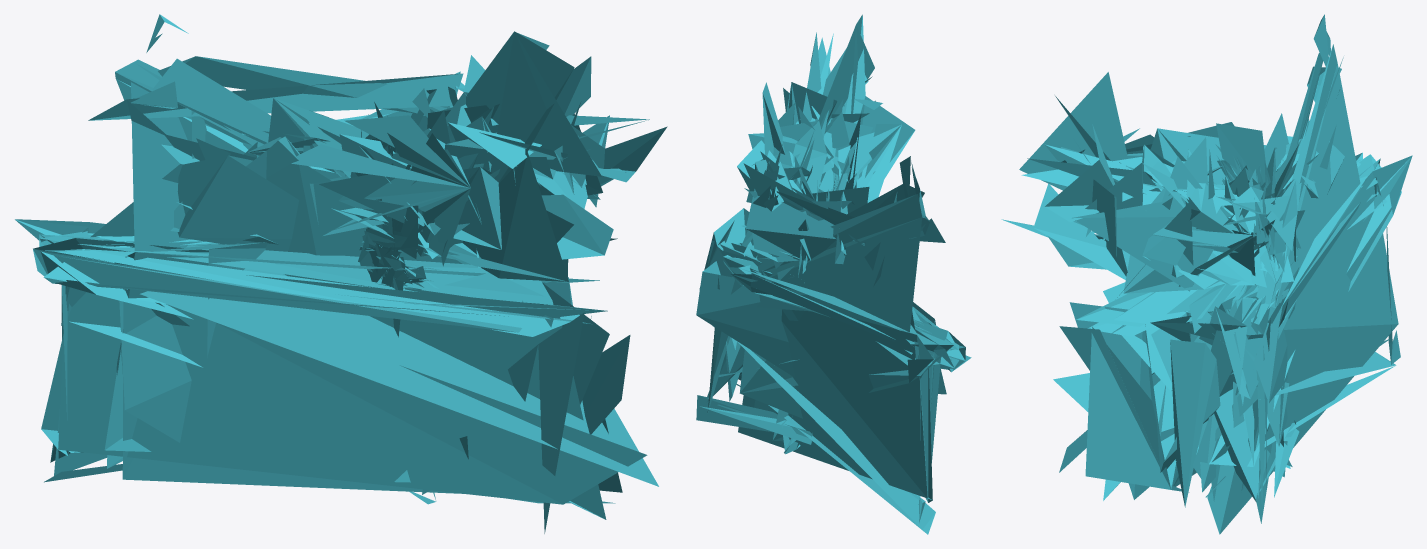
3 renders of one model, left to right at view 1: azimuth 30°, elevation 25°; view 2: azimuth 150°, elevation 25°; view 3: azimuth 270°, elevation 25°, orthographic. The views are drawn at different scales.
Parts seen in each view (by area): view 1: Renderer Node; view 2: Renderer Node; view 3: Renderer Node.
Part boxes in pixels (left/top/right/bottom): Renderer Node: left=15, top=14, right=667, bottom=533; Renderer Node: left=696, top=14, right=971, bottom=534; Renderer Node: left=1001, top=14, right=1412, bottom=534.
Size of the model in its own units: 0.5876 by 0.6726 by 0.5888.
1 material, 1 textured.
